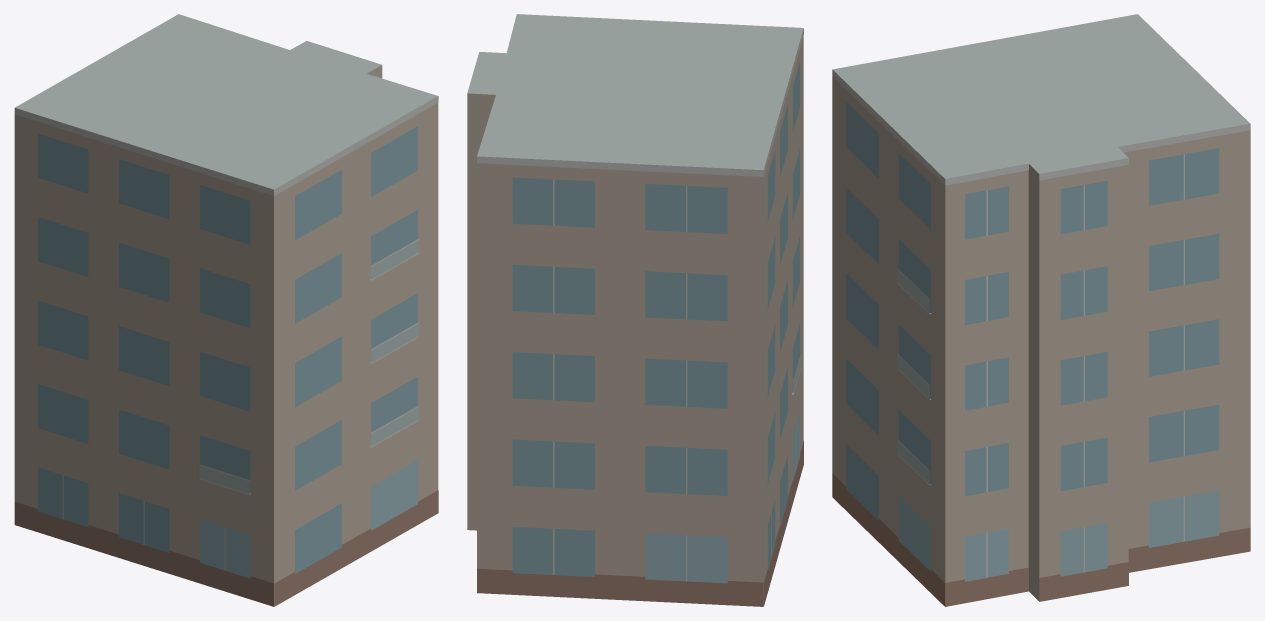
File: survey-upis-32529758.glb
The picture shows the model from 3 angles, left to right: view 1: azimuth 30°, elevation 25°; view 2: azimuth 150°, elevation 25°; view 3: azimuth 270°, elevation 25°; orthographic projection. The views are drawn at different scales.
Visible parts, largest first — view 1: survey-upis-32529758.tmp; view 2: survey-upis-32529758.tmp; view 3: survey-upis-32529758.tmp.
Boxes of the visible parts, box(x1,y1,x2,y2) form: survey-upis-32529758.tmp: box(14, 14, 438, 606); survey-upis-32529758.tmp: box(467, 14, 803, 606); survey-upis-32529758.tmp: box(832, 14, 1250, 606).
Bounding box in the file's own units: 12.96 × 15.65 × 13.87.
